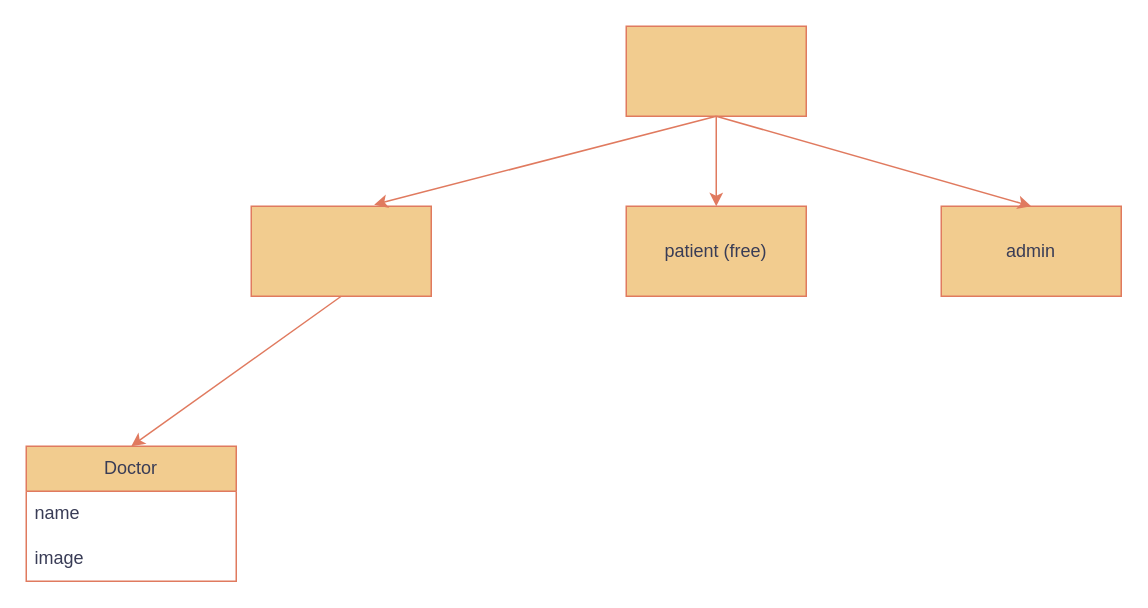
Some shapes in this 1148 by 608 pixel diagram are drawn without their labels. The shapes that lost their labels are listed below. From the top down, each one's centre as x and y in pixels, then its label:
point (715, 70): mediops system
point (340, 250): clinic (paid)
